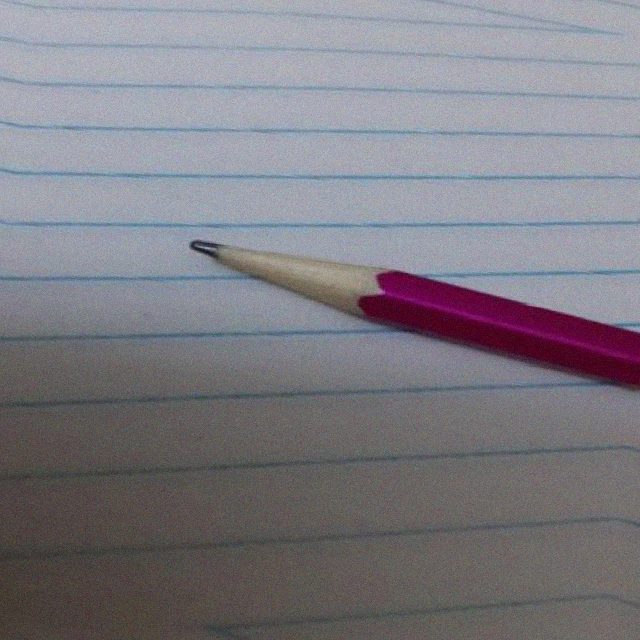pencil: (186, 227, 406, 312)
